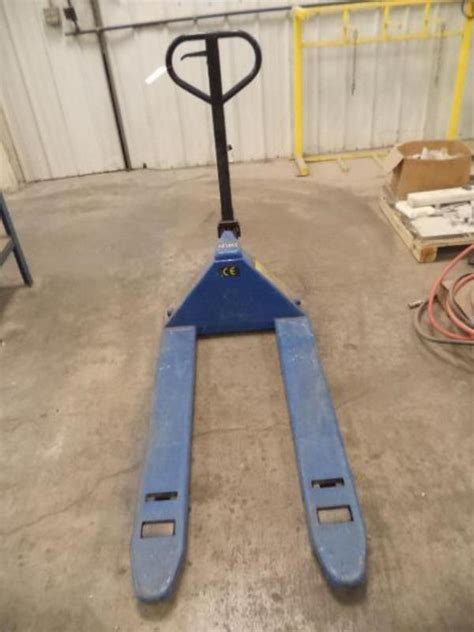Pallet Jack: (128, 27, 369, 601)
